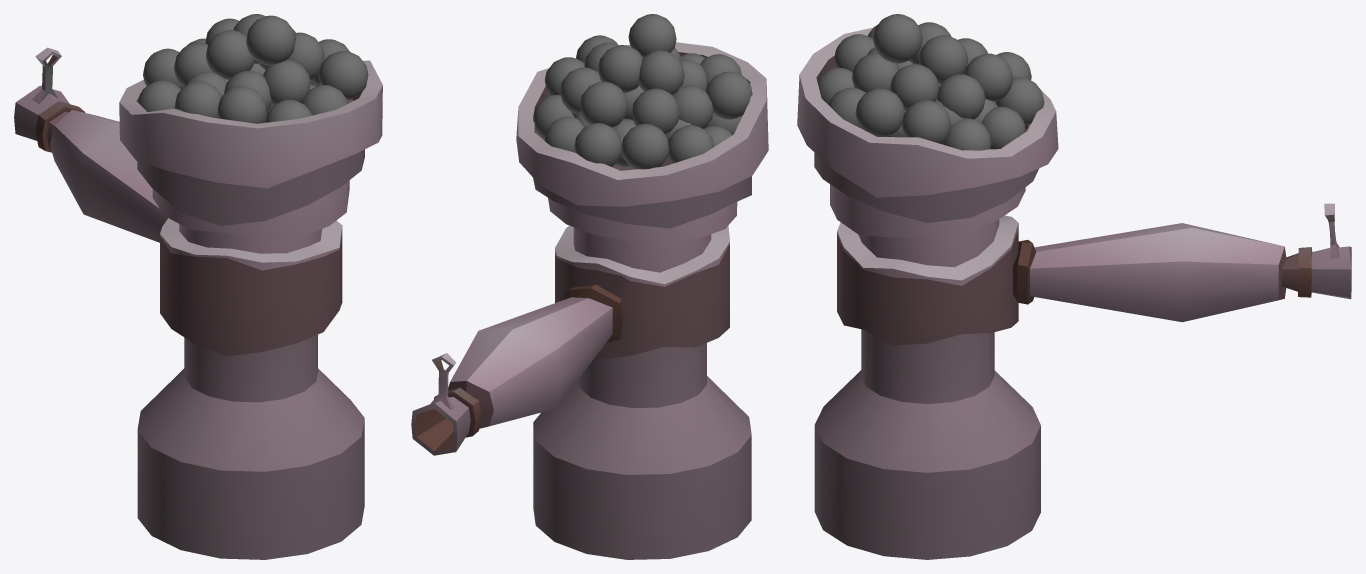
The model's file is Tourelle.fbx.
3 views of the same model, side by side, from view 1: azimuth 30°, elevation 25°; view 2: azimuth 150°, elevation 25°; view 3: azimuth 270°, elevation 25° (orthographic). The views are drawn at different scales.
Parts seen in each view (by area): view 1: Cylinder; view 2: Cylinder; view 3: Cylinder.
Boxes of the visible parts, x1,y1,x2,y2 form: Cylinder: (14,14,382,559); Cylinder: (411,14,768,559); Cylinder: (797,14,1351,559).
Bounding box in the file's own units: 1.23 × 2.59 × 2.61.
